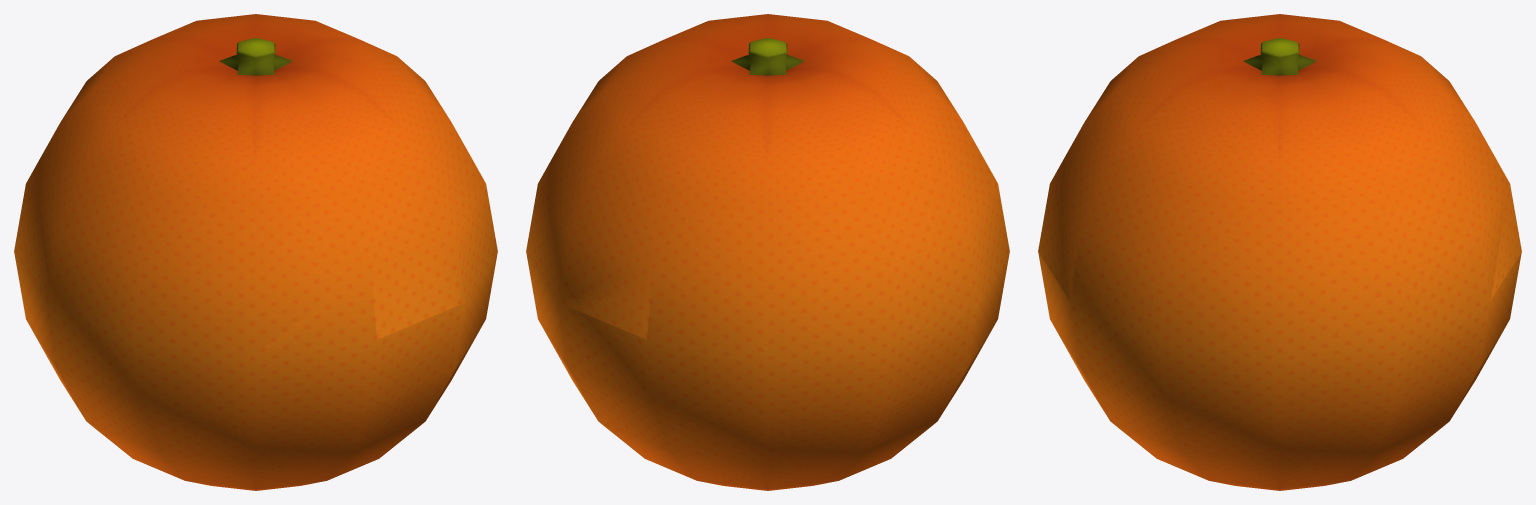
File: Orange.fbx
The picture shows the model from 3 angles, left to right: view 1: azimuth 30°, elevation 25°; view 2: azimuth 150°, elevation 25°; view 3: azimuth 270°, elevation 25°; orthographic projection.
Visible parts, largest first — view 1: Orange_Whole, Orange_Half_Top; view 2: Orange_Whole, Orange_Half_Top; view 3: Orange_Whole, Orange_Half_Top.
Boxes of the visible parts, bbox=[...] form: Orange_Whole: bbox=[14, 14, 497, 490]; Orange_Half_Top: bbox=[258, 233, 464, 352]; Orange_Whole: bbox=[526, 14, 1009, 490]; Orange_Half_Top: bbox=[560, 268, 767, 352]; Orange_Whole: bbox=[1038, 14, 1521, 490]; Orange_Half_Top: bbox=[1038, 185, 1521, 301].
Size of the model in its own units: 1.81 by 1.73 by 1.81.
